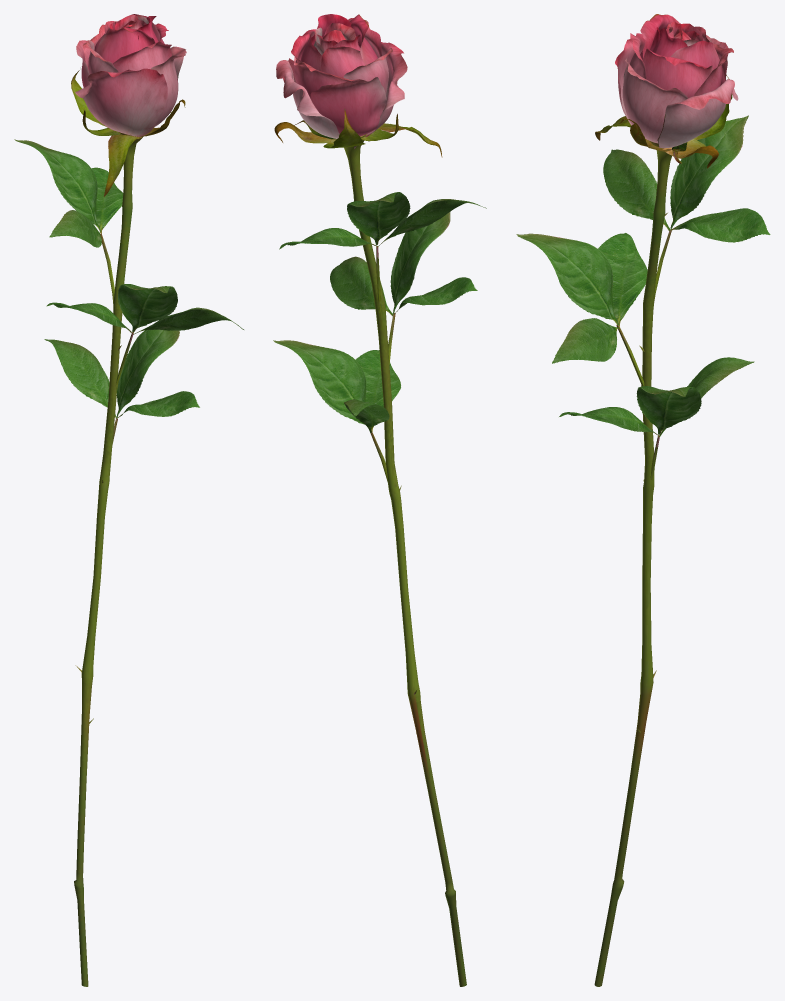
3 views of the same model, side by side, from view 1: azimuth 30°, elevation 25°; view 2: azimuth 150°, elevation 25°; view 3: azimuth 270°, elevation 25° (orthographic). The views are drawn at different scales.
Parts seen in each view (by area): view 1: AM108_068_10_AM108_068_05_0; view 2: AM108_068_10_AM108_068_05_0; view 3: AM108_068_10_AM108_068_05_0.
Part boxes in pixels (x1,y1,x2,y2): AM108_068_10_AM108_068_05_0: (14, 14, 243, 986); AM108_068_10_AM108_068_05_0: (273, 14, 486, 986); AM108_068_10_AM108_068_05_0: (516, 14, 770, 986).
Size of the model in its own units: 4.34 by 22.4 by 5.12.
Materials: 1 (1 with a texture image).
